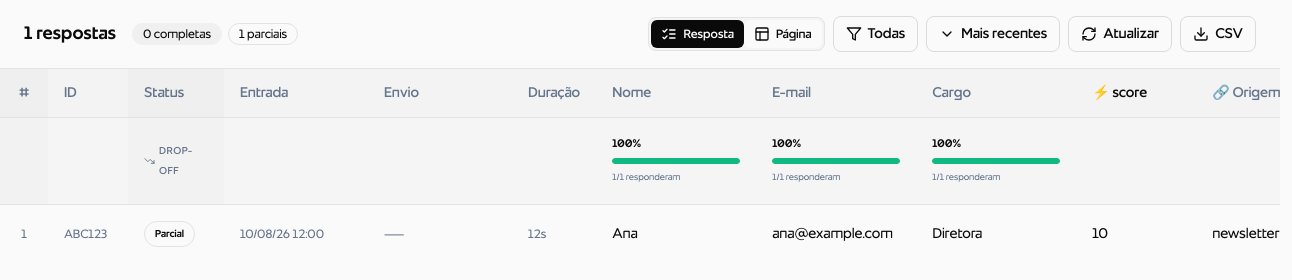
Test: FormResponses drop-off view › adds one merged page-group row while preserving every individual field column
Expected: the heading "1 respostas" is shown, [24,20,116,48]
Click the button "Página".
click(783, 34)  # box [744,20,822,48]
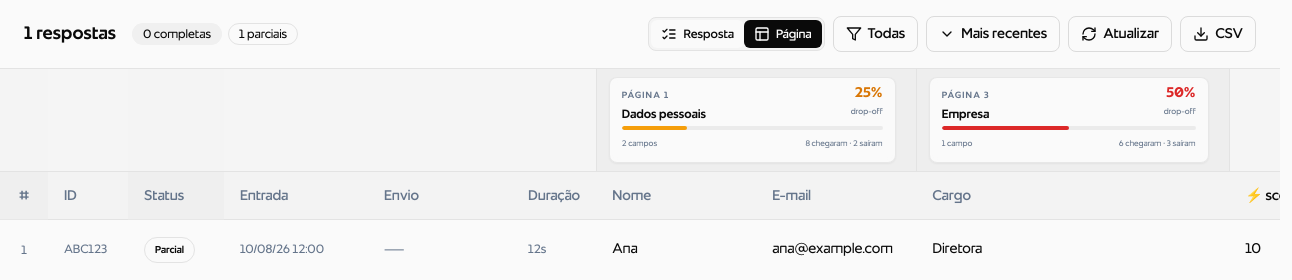
Expected: the row with test id "dropoff-analysis-row" is gone
Expected: the row with test id "page-group-header-row" is shown, [0,69,1280,172]
Click the button "Resposta".
click(698, 34)  # box [652,20,744,48]
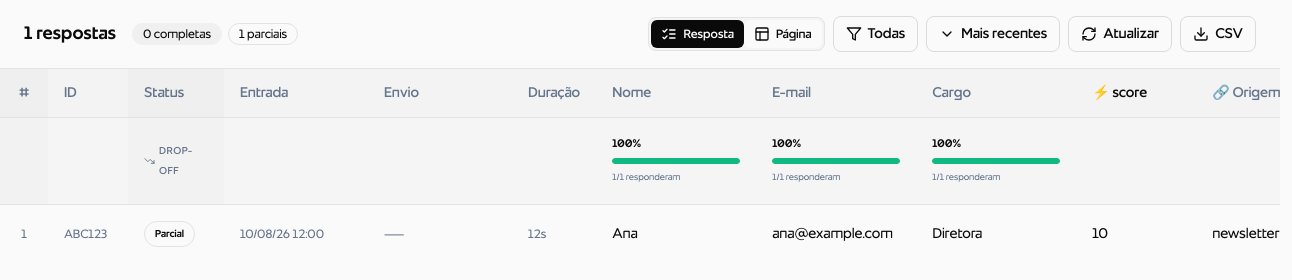
Expected: the row with test id "page-group-header-row" is gone
